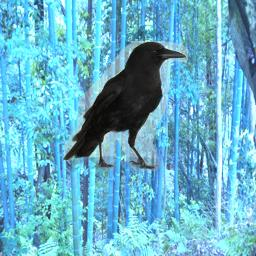Crow: (63, 41, 188, 171)
